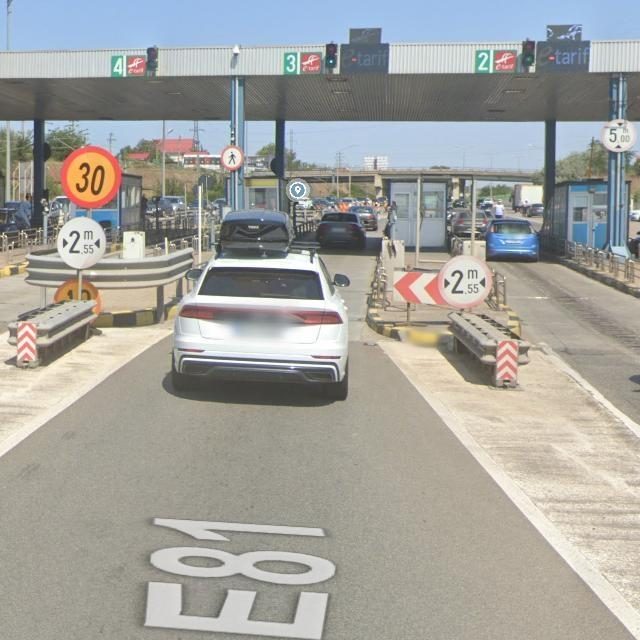forb_speed_over_30: (60, 145, 121, 208)
